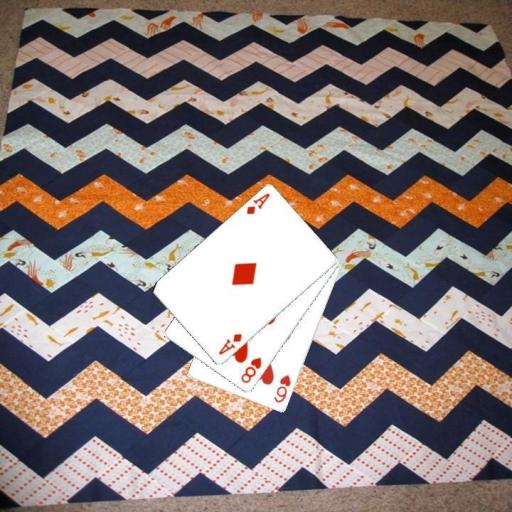card-corner: (238, 354, 263, 386), (243, 190, 271, 216), (216, 331, 243, 357), (271, 372, 292, 405)
